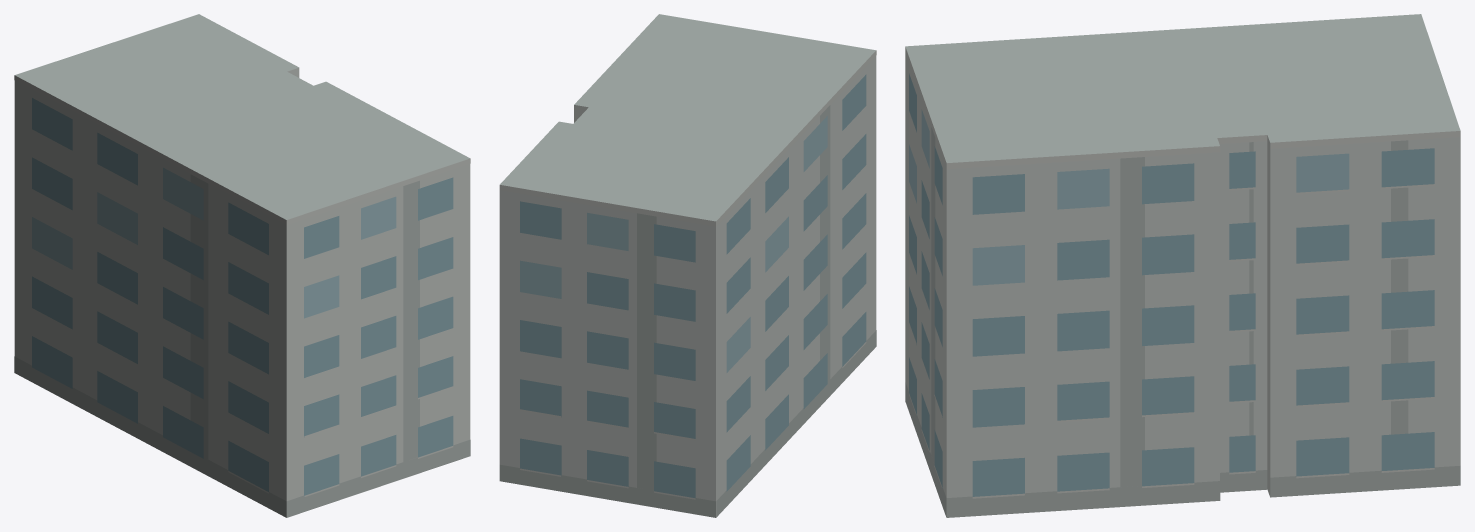
The model's file is survey-upis-32574755.glb.
3 views of the same model, side by side, from view 1: azimuth 30°, elevation 25°; view 2: azimuth 150°, elevation 25°; view 3: azimuth 270°, elevation 25° (orthographic). The views are drawn at different scales.
Parts seen in each view (by area): view 1: survey-upis-32574755.tmp; view 2: survey-upis-32574755.tmp; view 3: survey-upis-32574755.tmp.
Boxes of the visible parts, x1,y1,x2,y2 form: survey-upis-32574755.tmp: (14, 14, 470, 517); survey-upis-32574755.tmp: (499, 14, 876, 517); survey-upis-32574755.tmp: (905, 14, 1460, 517).
Size of the model in its own units: 12.55 by 13.9 by 19.73.
